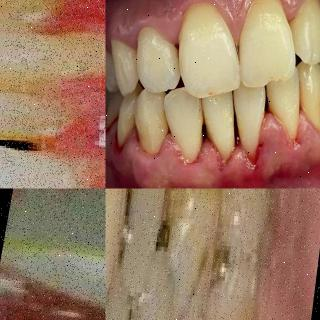Gum Swelling: (125, 111, 320, 188), (0, 269, 105, 320)
calculus: (202, 304, 264, 320), (231, 39, 253, 66)
maligned: (163, 85, 207, 168)
